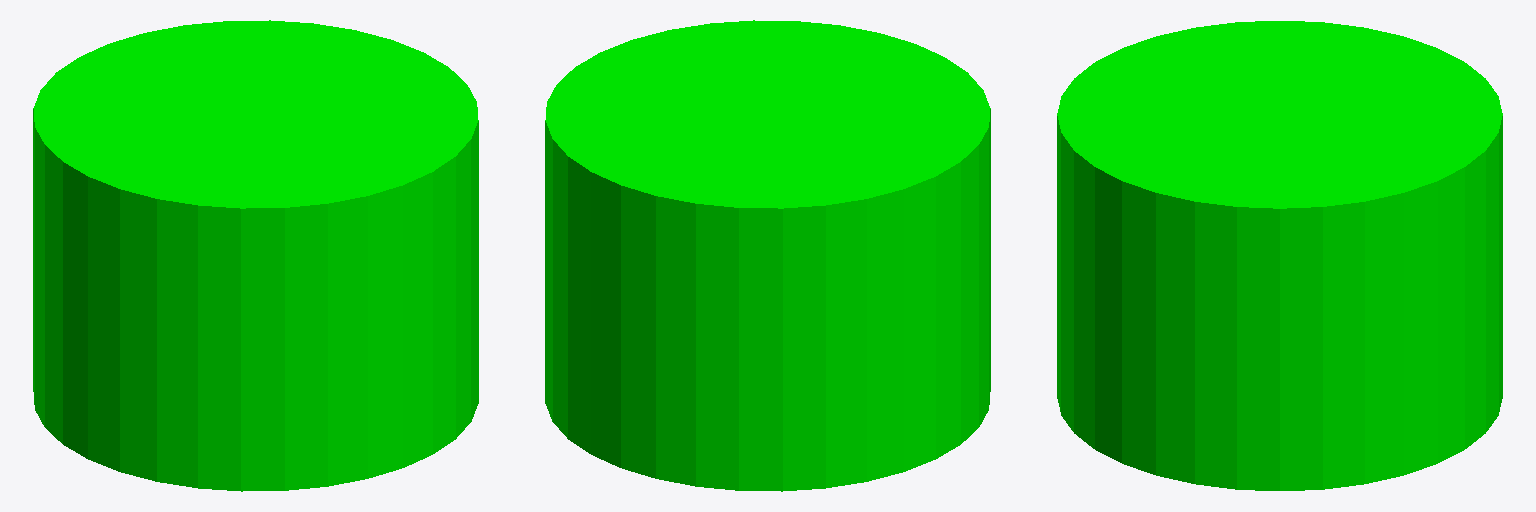
URDF robot description (simplegoal):
<?xml version="1.0"?> 
<robot name="simplegoal">
    <!-- Colors --> 
    <material name="green">
        <color rgba="0 50 0 1"/>
    </material>

    <!-- Goal -->
    <link name="base_link">
        <visual>
            <geometry>
                <cylinder radius="0.25" length=".35"/>
                <origin rpy="0 0 0" xyz="0 0 0.25"/>
            </geometry>
            <material name="green"/>
        </visual>
        <collision> 
             <geometry> 
                <cylinder radius="0.25" length="0.5"/>
                <origin rpy="0 0 0" xyz="0 0 0.25"/>
            </geometry>
        </collision> 
        <inertial> 
            <mass value="0"/>
            <inertia ixx="0" ixy="0" ixz="0" iyy="0" iyz="0" izz="0"/>
        </inertial> 
    </link>
</robot>

--- What the picture shows (computed from the rendered views, not written in the file) ---
3 views of the same robot in one strip: view 1: azimuth 30°, elevation 25°; view 2: azimuth 150°, elevation 25°; view 3: azimuth 270°, elevation 25° (orthographic).
Robot: simplegoal — 1 links, 0 joints (none); root link base_link; default pose: every joint at zero.
Visible links, largest first — view 1: base_link; view 2: base_link; view 3: base_link.
Link boxes in pixels (left/top/right/bottom): base_link: left=33, top=20, right=478, bottom=491; base_link: left=545, top=20, right=990, bottom=491; base_link: left=1057, top=21, right=1502, bottom=490.
Size in the robot's own frame: 0.5 by 0.5 by 0.35 metres.
Geometry: primitives only (box / cylinder / sphere), no mesh files.
